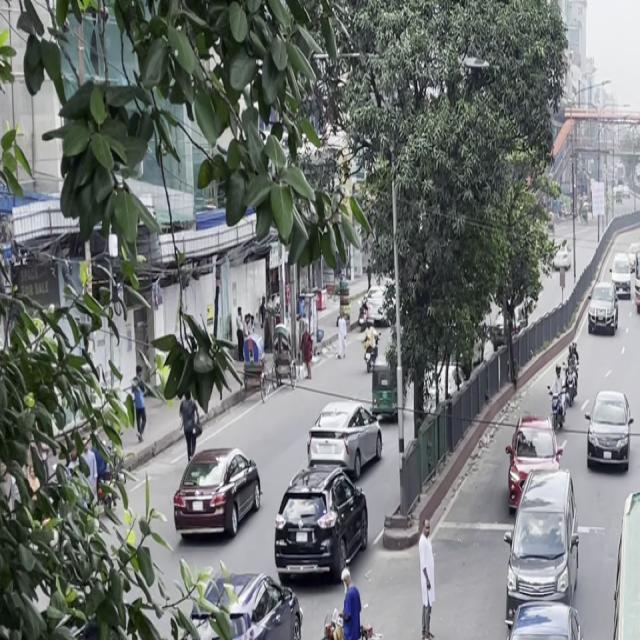bicycle: (308, 576, 396, 640)
bus: (590, 475, 640, 640), (634, 213, 640, 312)
car: (269, 461, 371, 586), (503, 462, 581, 618), (167, 442, 266, 548), (166, 568, 308, 640), (303, 393, 387, 479), (478, 592, 586, 640), (585, 385, 635, 480), (584, 284, 616, 340), (604, 245, 631, 287)
motorbike: (548, 372, 570, 440), (561, 338, 581, 406)
